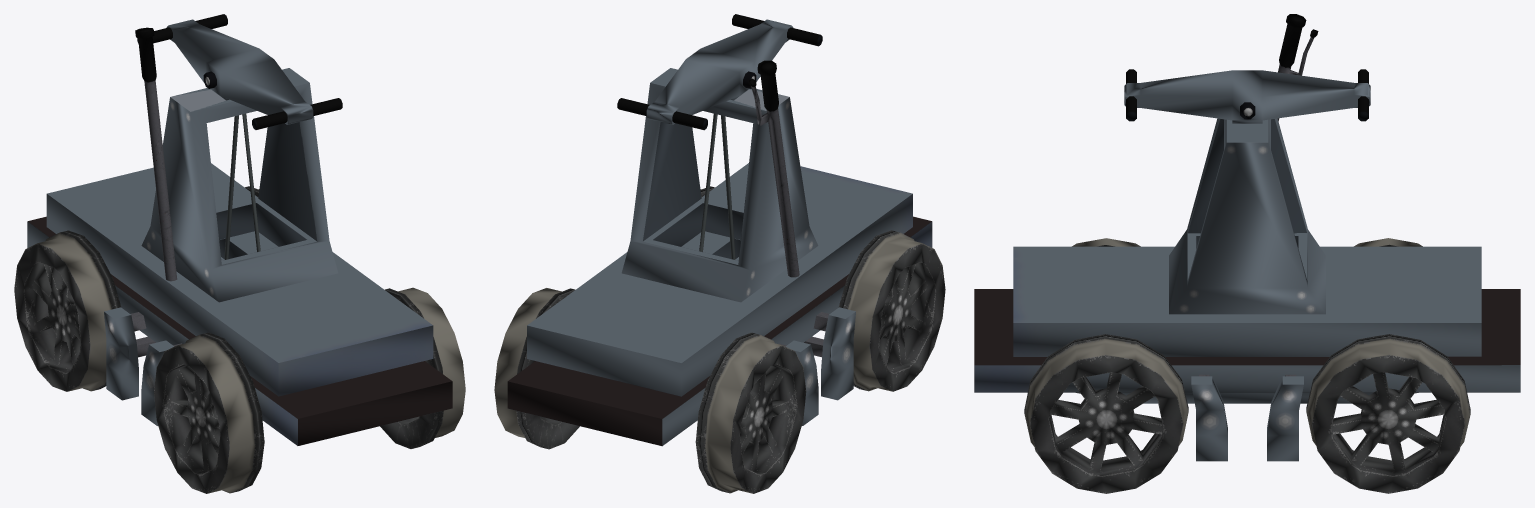
3 views of the same model, side by side, from view 1: azimuth 30°, elevation 25°; view 2: azimuth 150°, elevation 25°; view 3: azimuth 270°, elevation 25° (orthographic).
Parts seen in each view (by area): view 1: _gltfNode_16; view 2: _gltfNode_16; view 3: _gltfNode_16.
Boxes of the visible parts, <box> form: _gltfNode_16: <box>14,14,465,493</box>; _gltfNode_16: <box>494,14,945,493</box>; _gltfNode_16: <box>974,14,1520,493</box>.
Bounding box in the file's own units: 86.79 × 135 × 172.
1 material, 1 textured.
